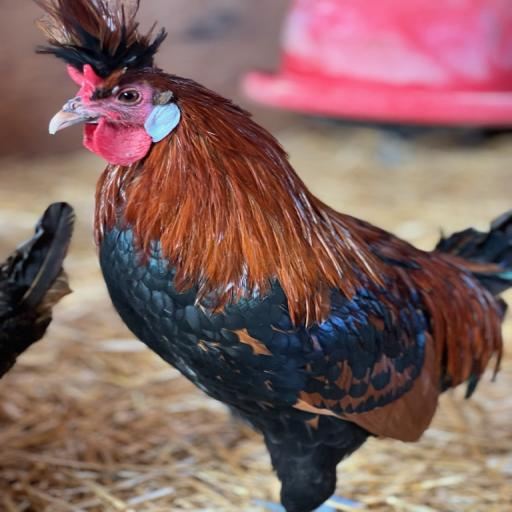healthy: (41, 65, 204, 169)
